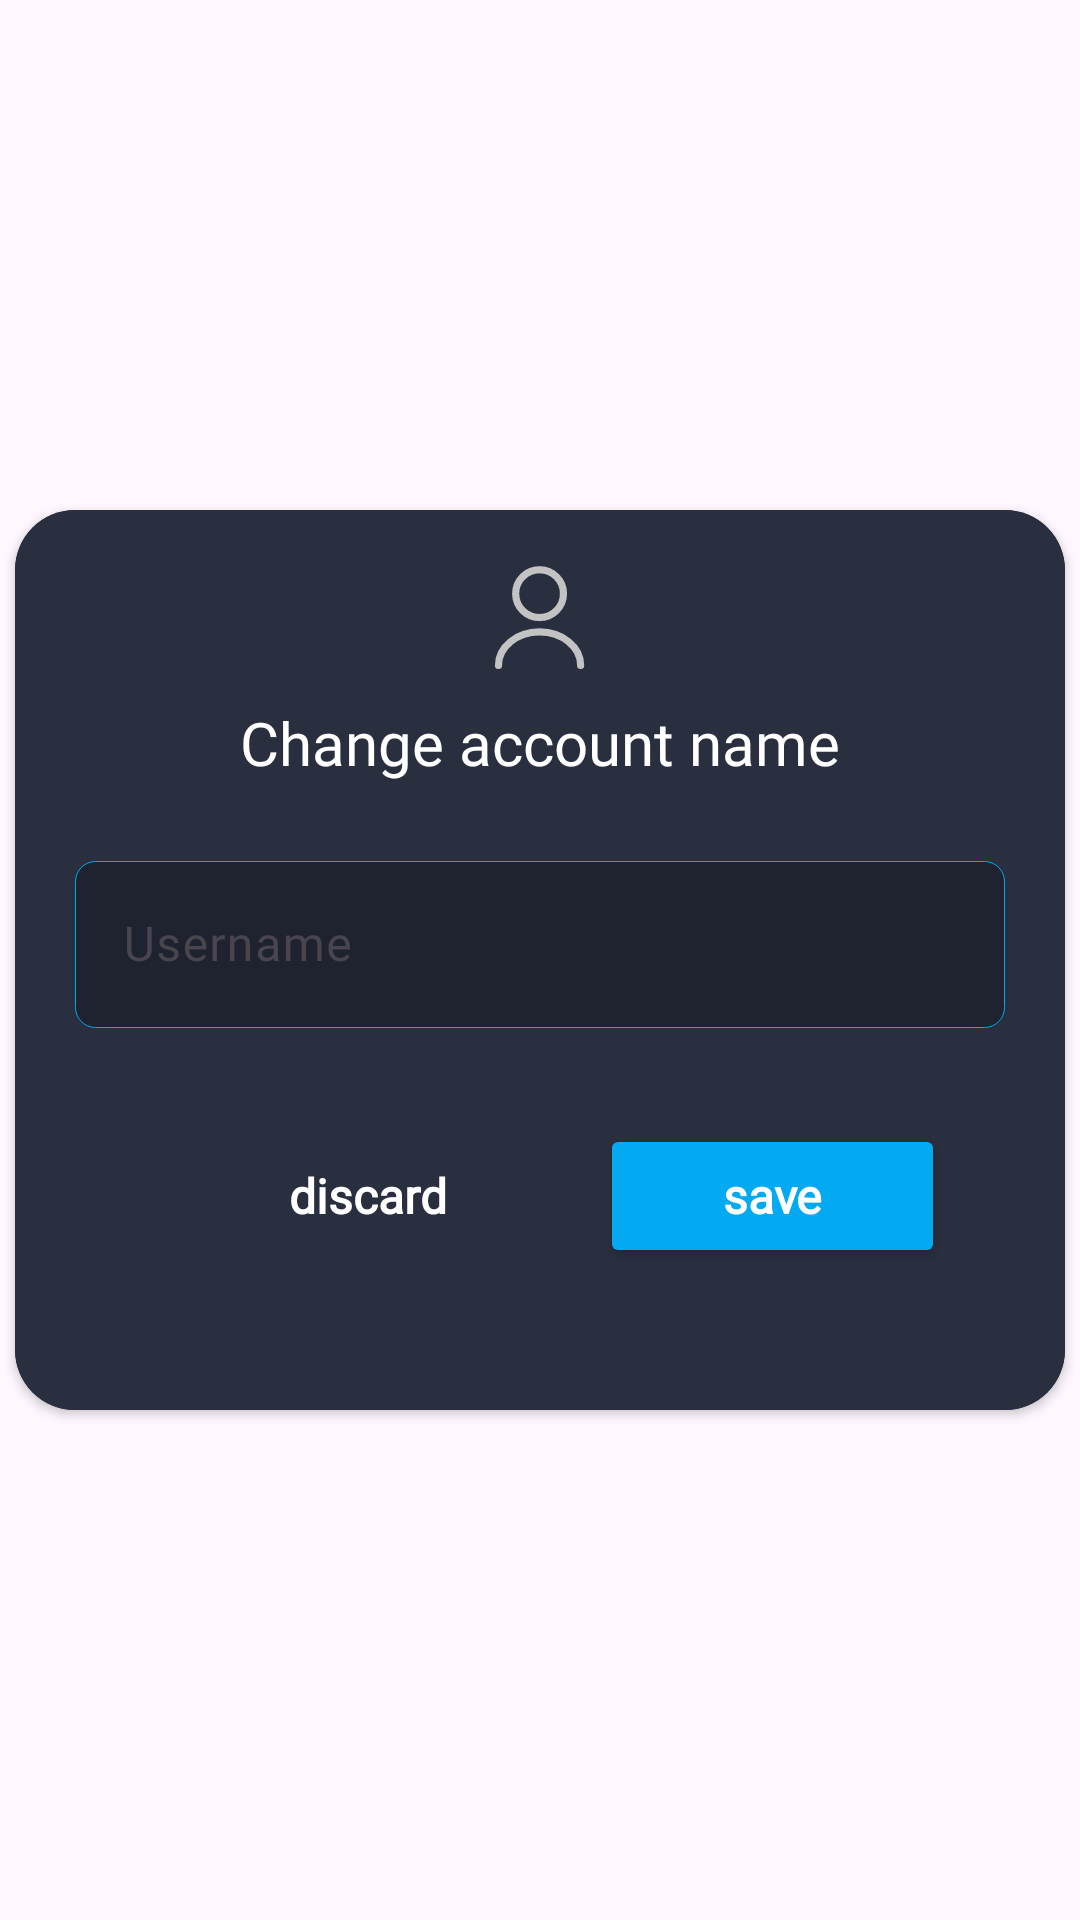

Locate icon controls on the screen. Image size 1080x1920, boxes as detection(x1, y1, x2, y2).
username: detection(495, 566, 585, 669)
